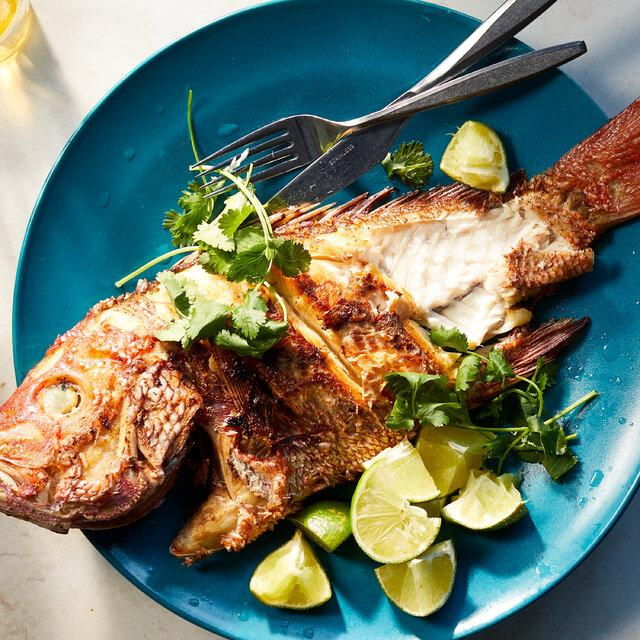Peixe: (0, 94, 638, 564), (0, 277, 203, 534)
